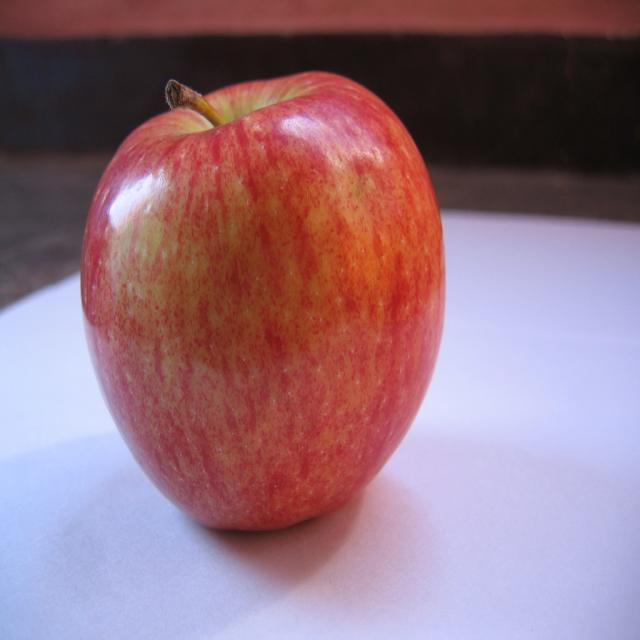Healty Apple: (82, 66, 446, 532)
